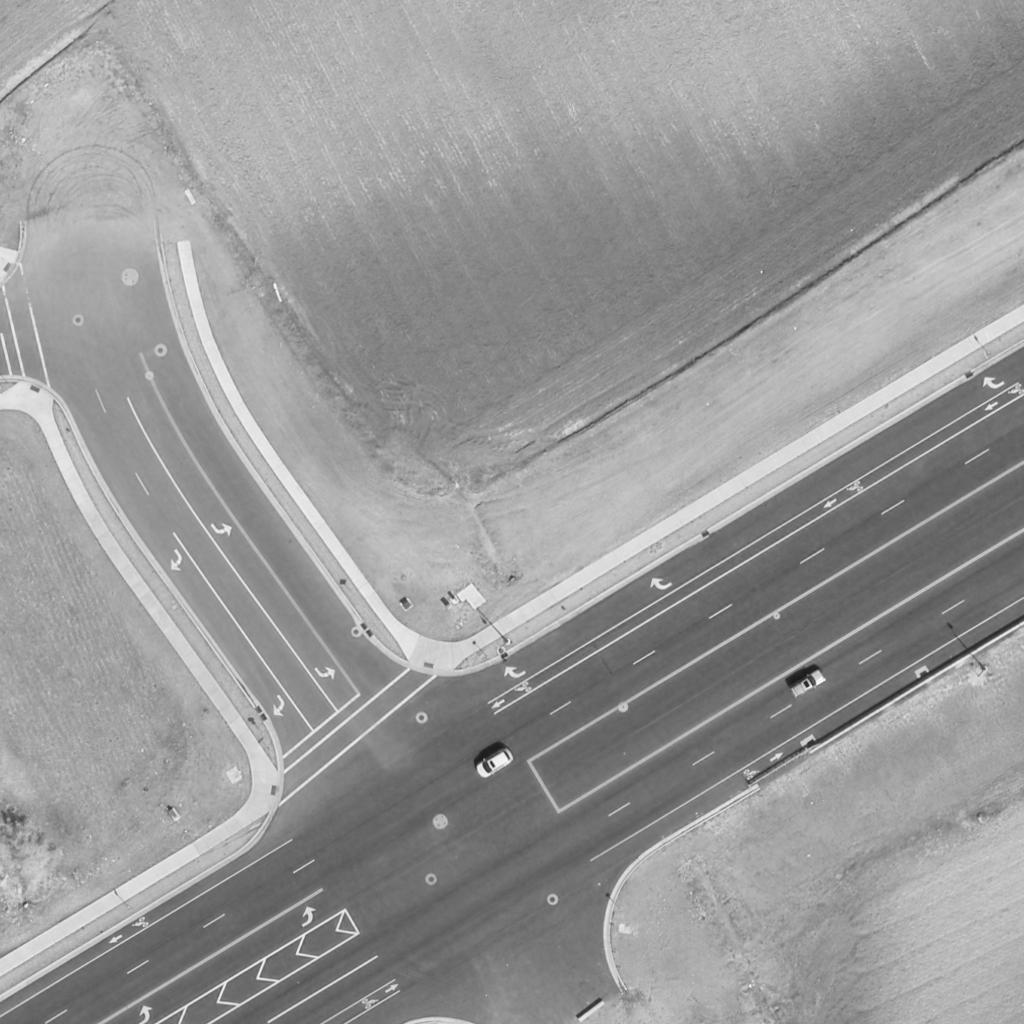vehicle: (476, 747, 514, 783), (789, 671, 827, 699)
